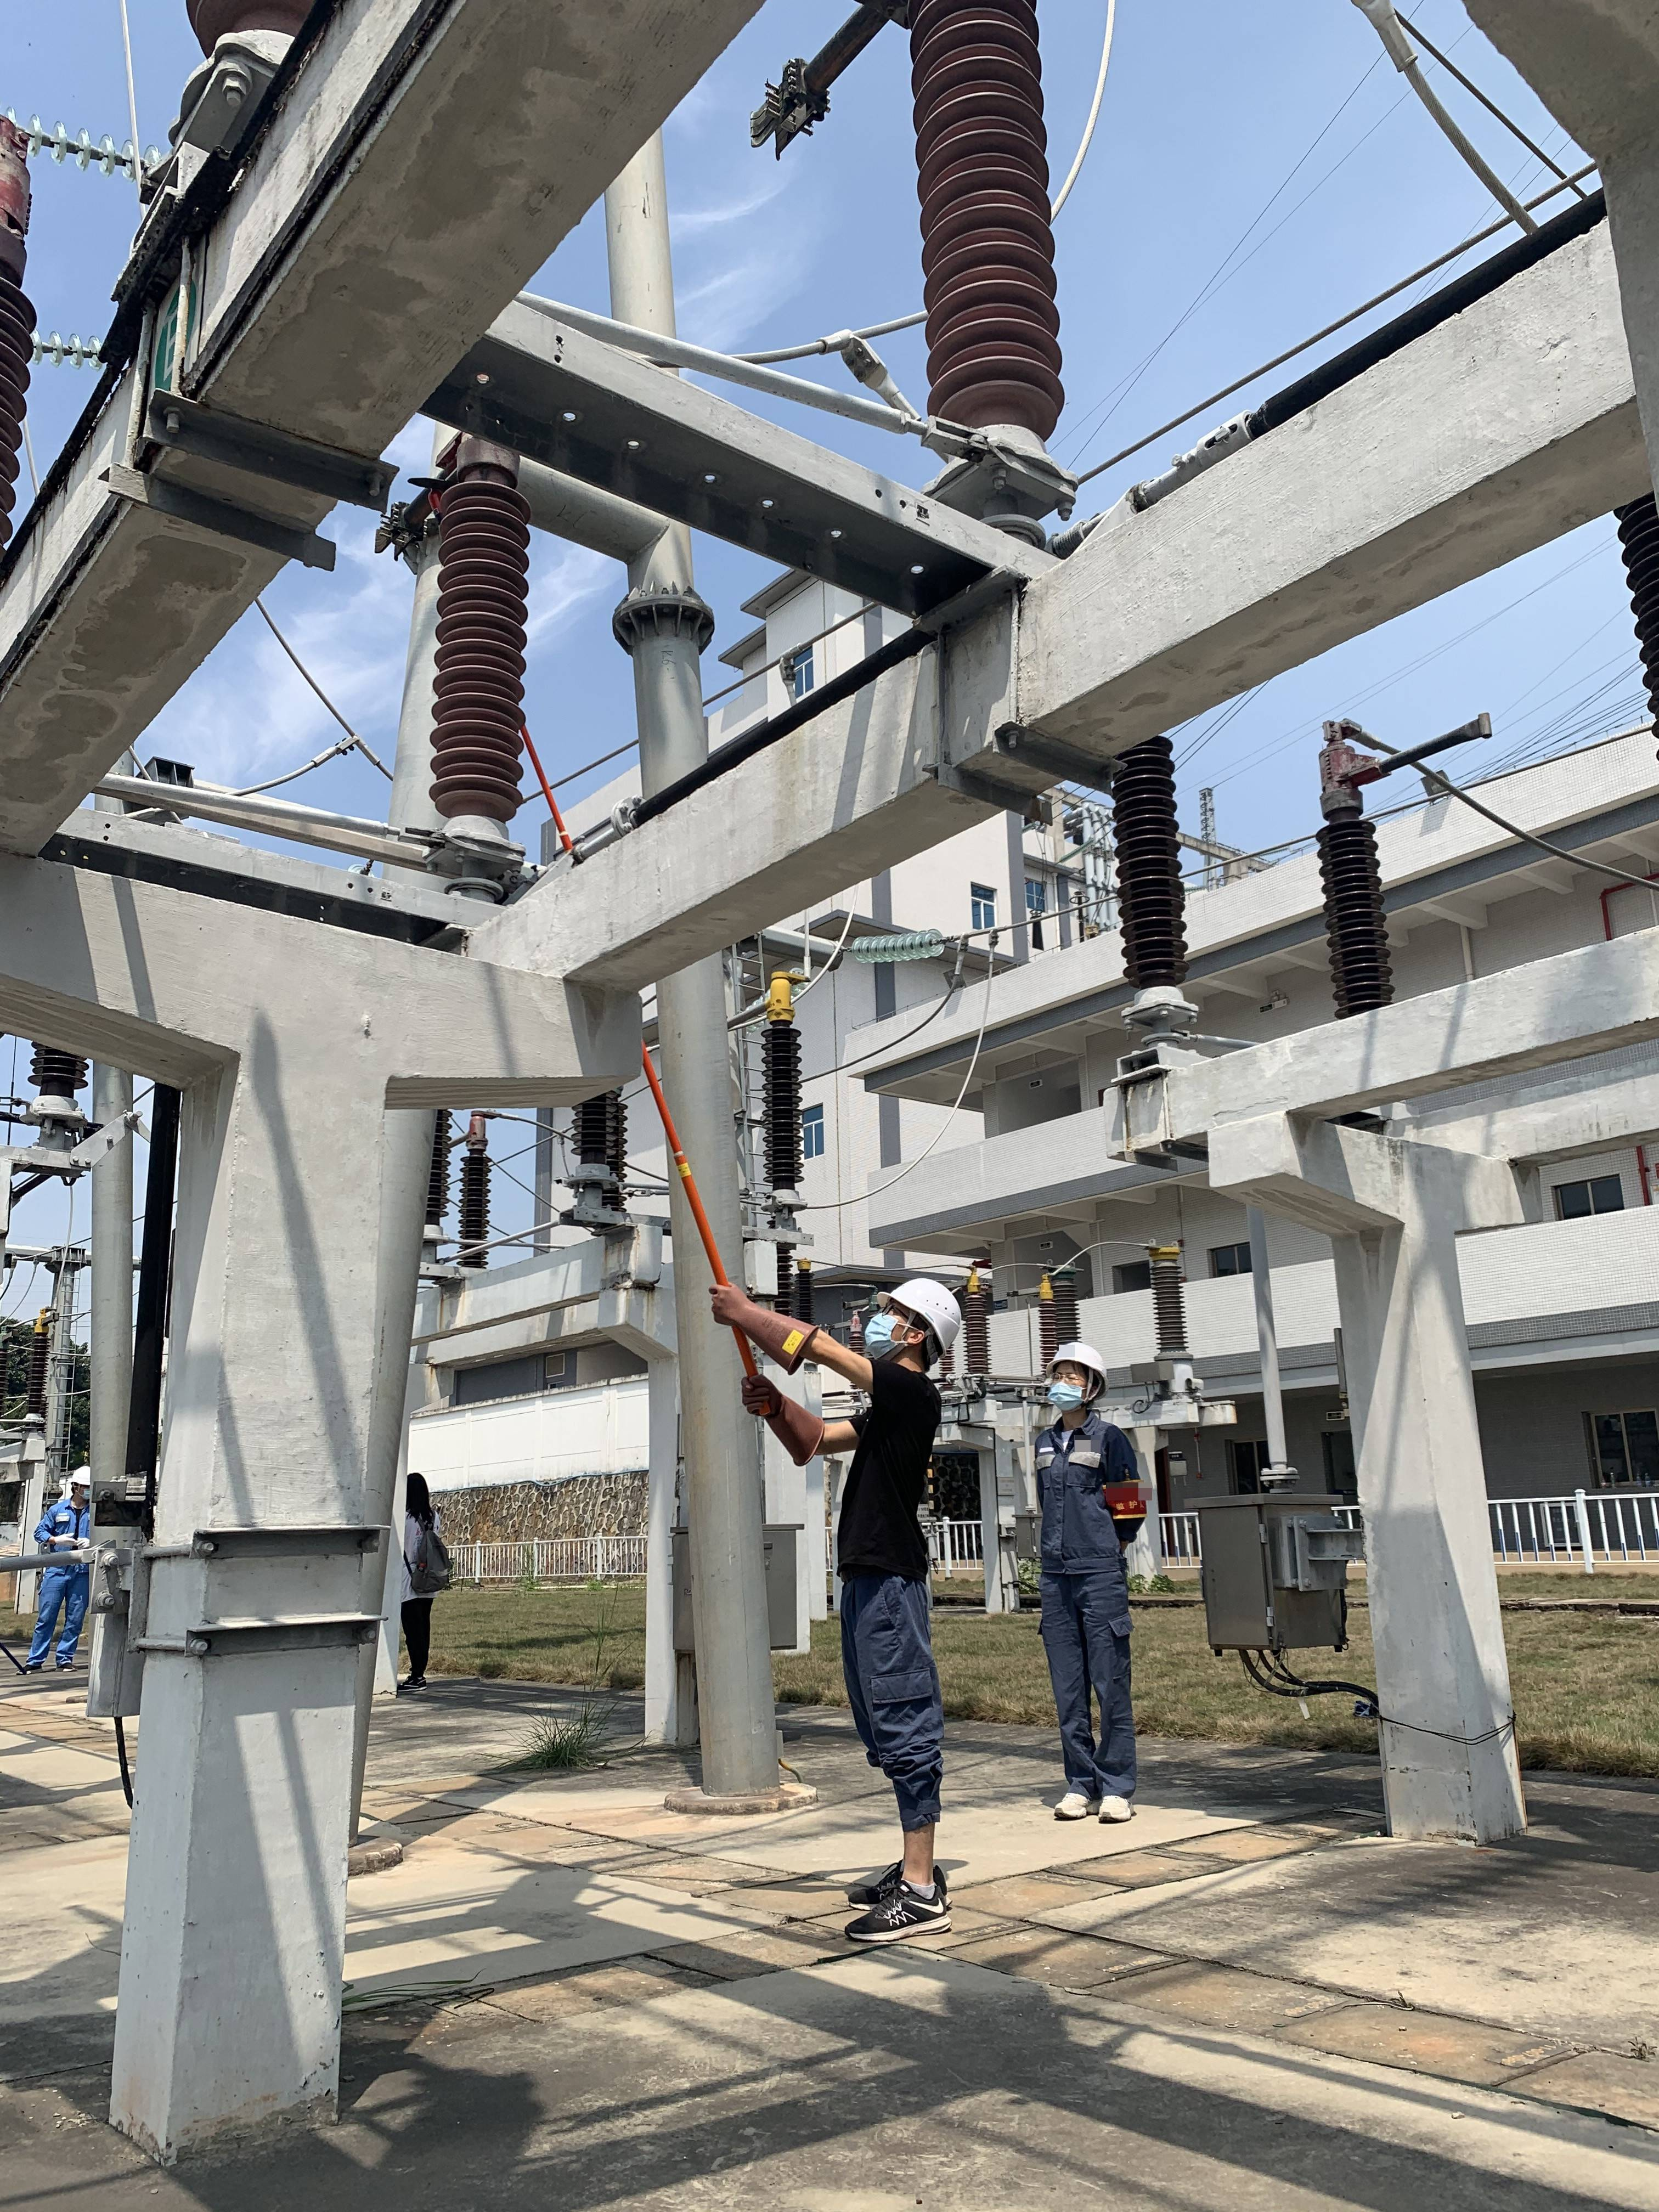downsuit: (1039, 1592, 1150, 1794)
upsuit: (849, 1585, 950, 1801), (1028, 1411, 1152, 1552)
wrongbottom: (861, 1771, 962, 1893)
